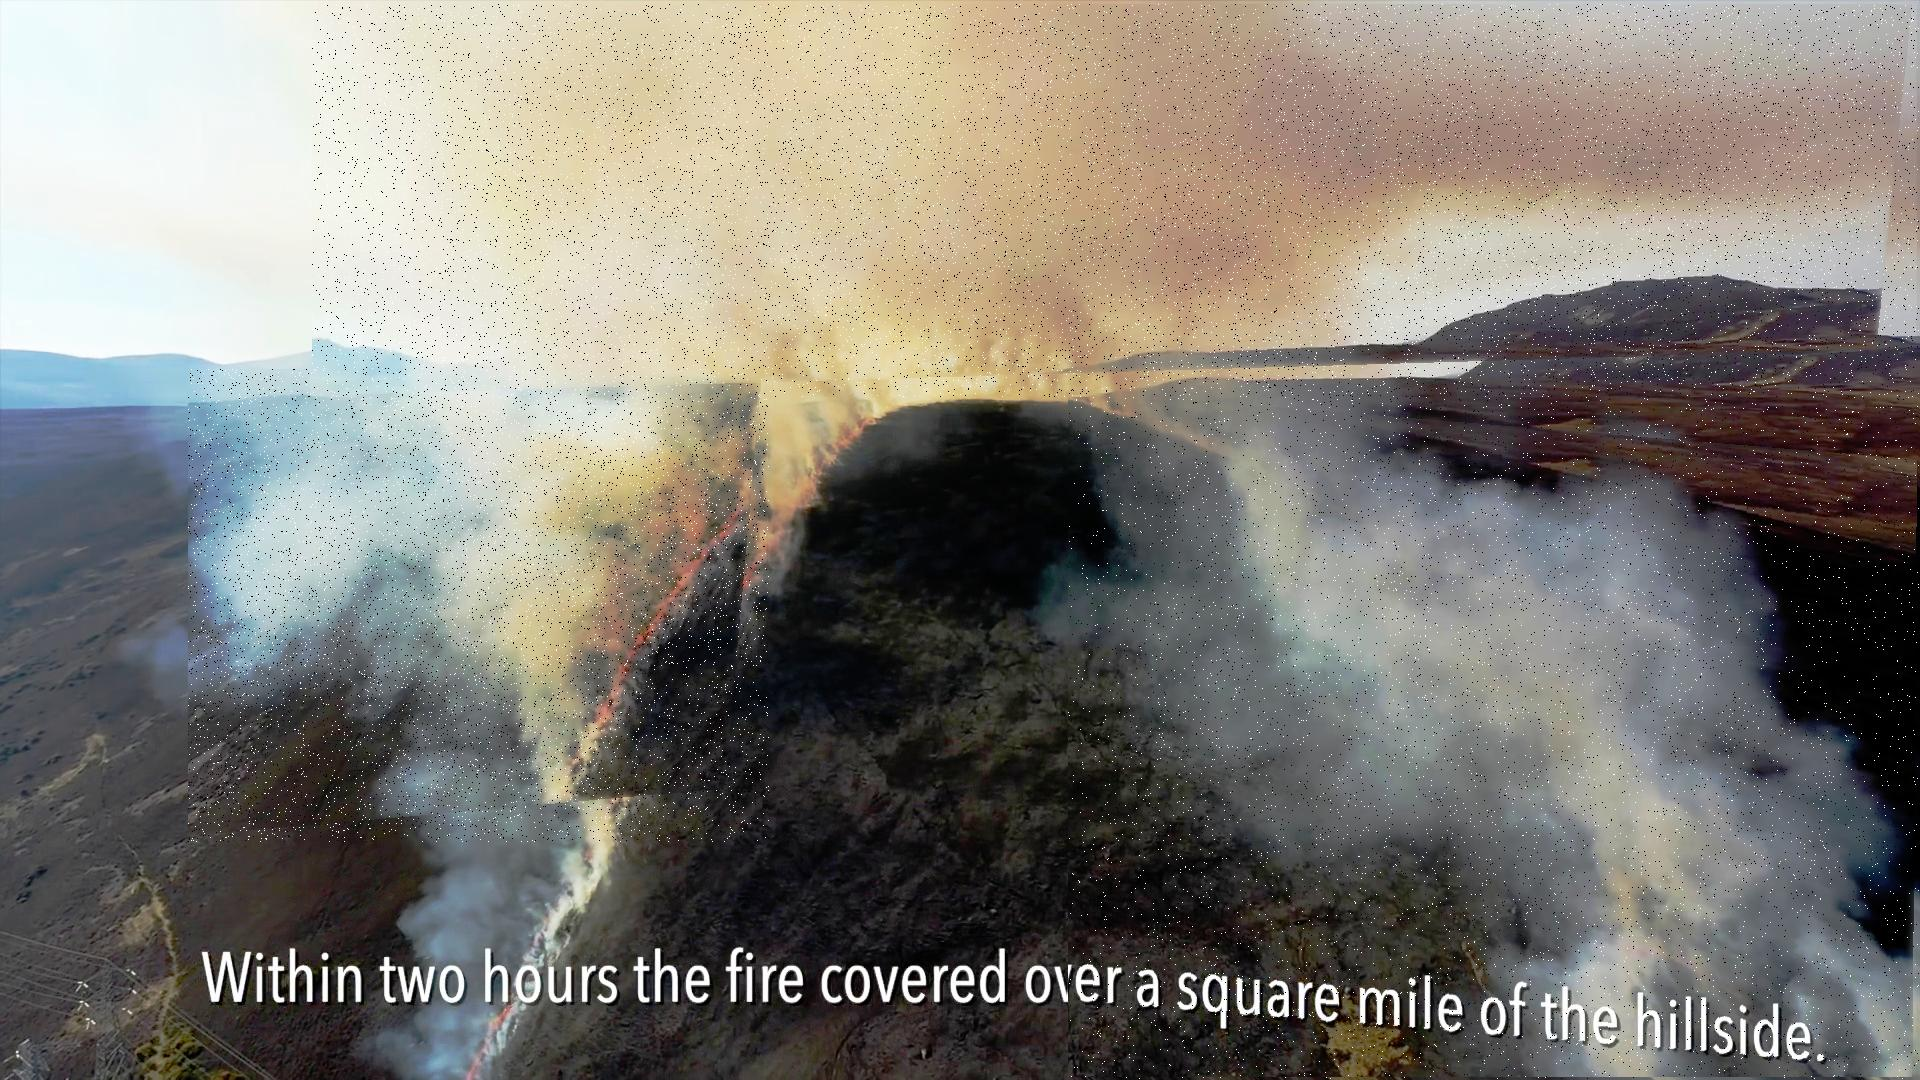smoke: (313, 4, 1920, 397), (1068, 393, 1920, 1080), (189, 371, 770, 843)
